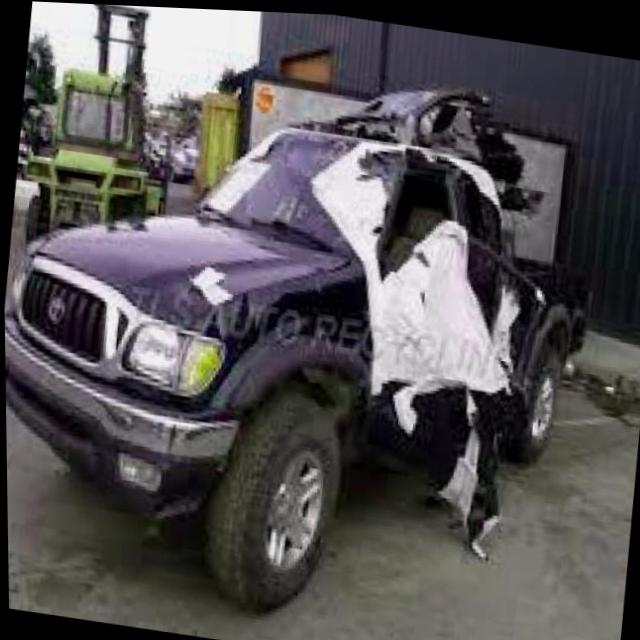Car-Damage: (275, 63, 571, 575)
